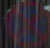No Stopping: (3, 4, 49, 45)
